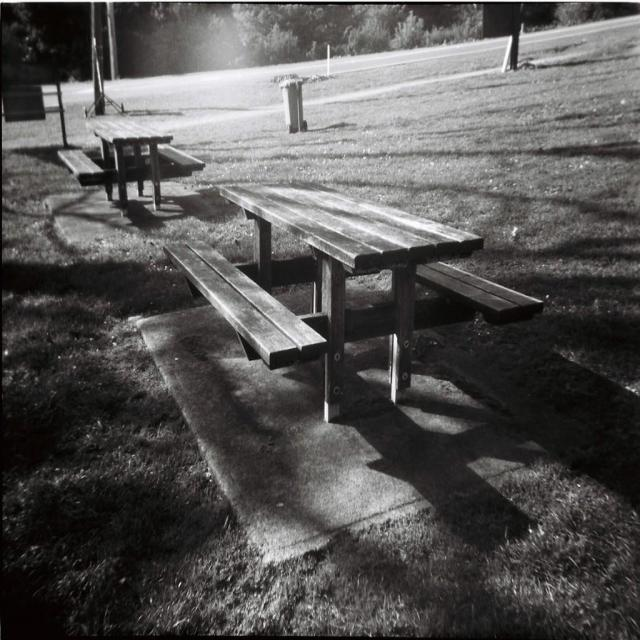Table: (218, 174, 483, 425), (87, 119, 184, 195)
